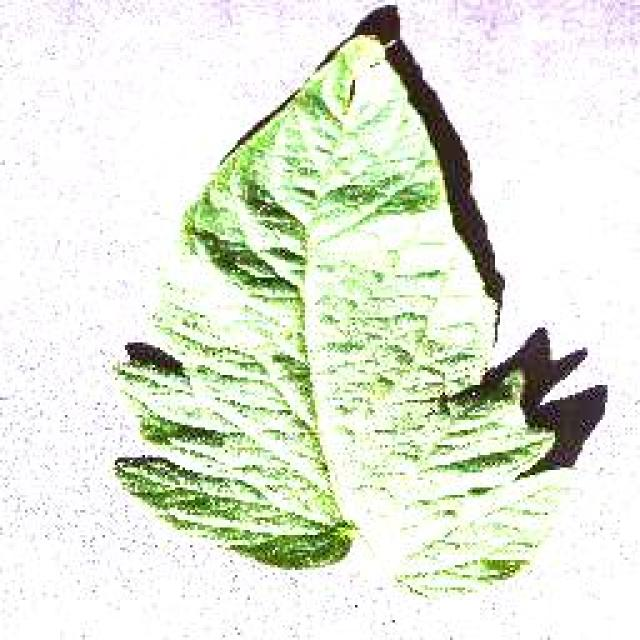Tomato___healthy: (105, 33, 582, 604)
